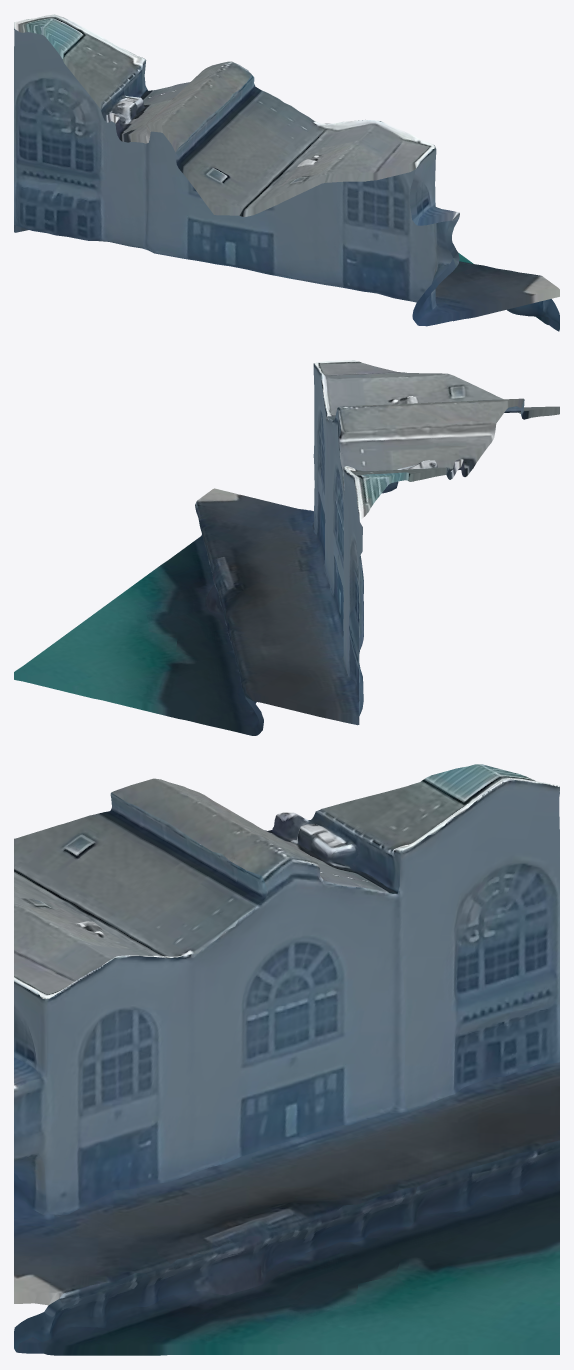
The model's file is z20-167789-405217-h0-yup-uvflip-v3-world.glb.
3 views of the same model, one above another, from view 1: azimuth 30°, elevation 25°; view 2: azimuth 150°, elevation 25°; view 3: azimuth 270°, elevation 25° (orthographic). The views are drawn at different scales.
Size of the model in its own units: 30.16 by 22.2 by 30.32.
1 material, 1 textured.
